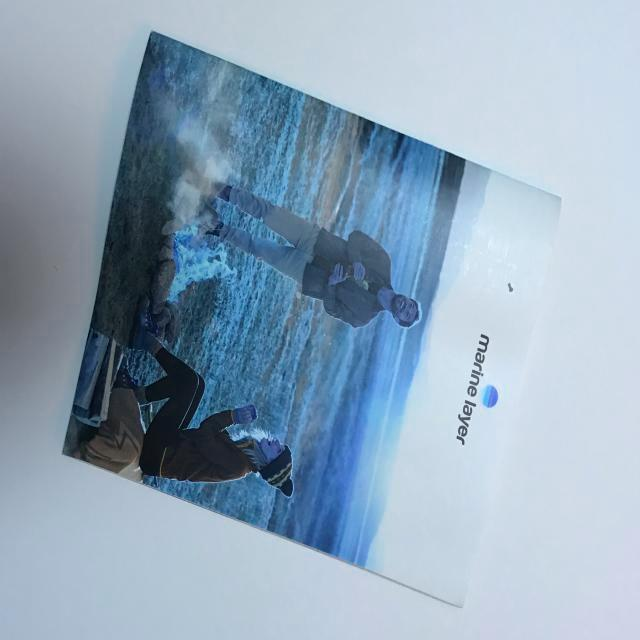paper: (63, 30, 561, 604)
